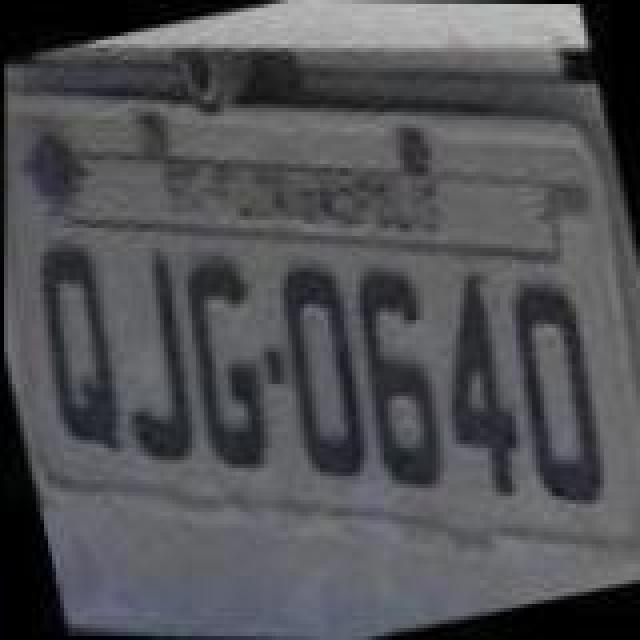4: (412, 268, 536, 504)
6: (334, 262, 462, 502)
G: (164, 252, 292, 480)
J: (88, 244, 216, 468)
O: (488, 272, 620, 520), (260, 256, 388, 488)
Q: (14, 238, 138, 466)
